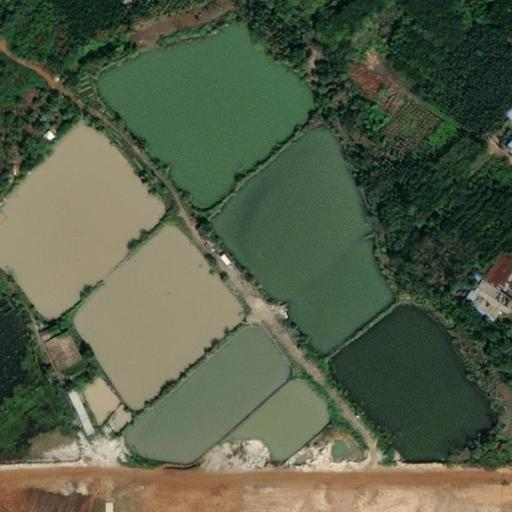building: (72, 371, 126, 428), (37, 323, 86, 375), (58, 384, 96, 438), (467, 247, 508, 291), (462, 280, 501, 311), (461, 295, 489, 320), (495, 111, 512, 130), (496, 136, 512, 156), (454, 290, 468, 303), (505, 129, 512, 143)
